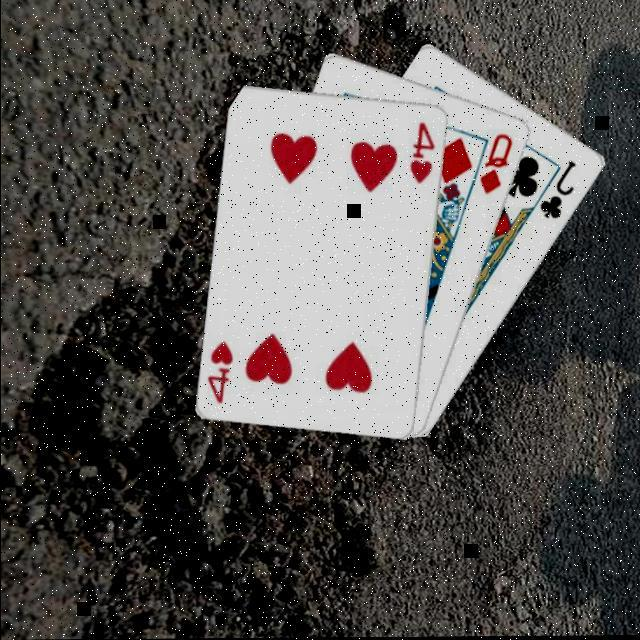4H: (206, 340, 238, 408), (408, 121, 440, 187)
JC: (538, 159, 582, 225)
QD: (478, 132, 518, 200)
